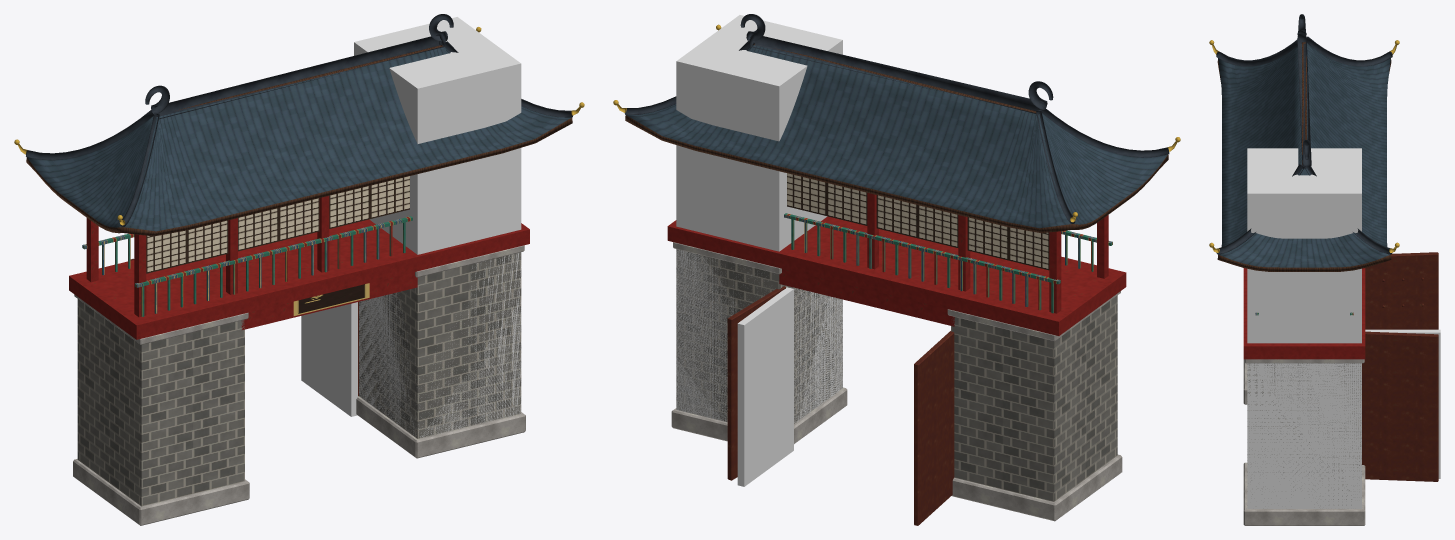
Rendered from town_gate.glb.
The picture shows the model from 3 angles, left to right: view 1: azimuth 30°, elevation 25°; view 2: azimuth 150°, elevation 25°; view 3: azimuth 270°, elevation 25°; orthographic projection. The views are drawn at different scales.
Visible parts, largest first — view 1: GatePiers, GateRoof, GatePier-convcolonly.001, GateTimber, GateStone, GateLattice, GateRoofRidges, GateDoor-convcolonly.001, GateBeams, GatePlaque; view 2: GateRoof, GatePiers, GatePier-convcolonly.001, GateTimber, GateDoor-convcolonly.001, GateDoors, GateLattice, GateStone, GateRoofRidges, GateBeams; view 3: GatePier-convcolonly.001, GateRoof, GateDoors, GateStone, GateRoofRidges, GateTimber, GatePiers, GateDoor-convcolonly.001.
Boxes of the visible parts, x1=… form: GatePiers: x1=77, y1=252, x2=521, y2=506; GateRoof: x1=26, y1=45, x2=572, y2=236; GatePier-convcolonly.001: x1=354, y1=17, x2=521, y2=437; GateTimber: x1=69, y1=196, x2=529, y2=339; GateStone: x1=73, y1=245, x2=525, y2=525; GateLattice: x1=146, y1=176, x2=409, y2=273; GateRoofRidges: x1=26, y1=14, x2=572, y2=226; GateDoor-convcolonly.001: x1=301, y1=302, x2=357, y2=416; GateBeams: x1=82, y1=216, x2=412, y2=316; GatePlaque: x1=293, y1=283, x2=369, y2=315; GateRoof: x1=625, y1=44, x2=1168, y2=233; GatePiers: x1=676, y1=249, x2=1117, y2=501; GatePier-convcolonly.001: x1=676, y1=15, x2=842, y2=422; GateTimber: x1=667, y1=193, x2=1126, y2=335; GateDoor-convcolonly.001: x1=737, y1=287, x2=793, y2=486; GateDoors: x1=727, y1=286, x2=954, y2=525; GateLattice: x1=787, y1=173, x2=1049, y2=270; GateStone: x1=671, y1=242, x2=1122, y2=521; GateRoofRidges: x1=624, y1=14, x2=1169, y2=223; GateBeams: x1=784, y1=213, x2=1112, y2=313; GatePier-convcolonly.001: x1=1247, y1=148, x2=1361, y2=508; GateRoof: x1=1217, y1=42, x2=1391, y2=271; GateDoors: x1=1362, y1=252, x2=1438, y2=481; GateStone: x1=1243, y1=359, x2=1365, y2=525; GateRoofRidges: x1=1216, y1=14, x2=1392, y2=254; GateTimber: x1=1243, y1=268, x2=1365, y2=359; GatePiers: x1=1247, y1=363, x2=1361, y2=508; GateDoor-convcolonly.001: x1=1365, y1=329, x2=1440, y2=478.
Size of what is drawn, in the model's own units: 13.51 by 11.2 by 6.46.
Materials: 11 (11 with a texture image).
